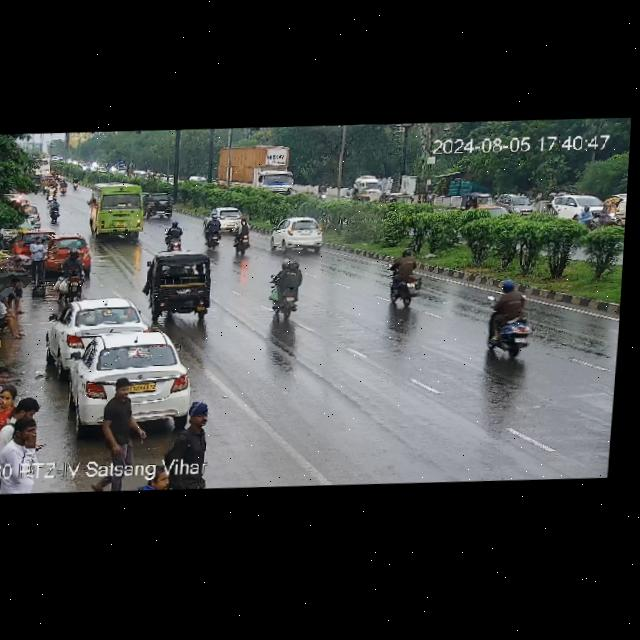bus: (87, 179, 154, 240)
car: (60, 331, 193, 422), (52, 294, 147, 358), (145, 250, 221, 328), (272, 216, 332, 254), (550, 187, 604, 222), (43, 233, 94, 269), (500, 192, 542, 218), (602, 190, 627, 231), (208, 204, 248, 225), (142, 191, 175, 215), (470, 203, 515, 220), (379, 189, 413, 210), (460, 189, 495, 209), (352, 186, 371, 202)
motorcycle: (480, 275, 547, 360), (260, 259, 307, 324), (382, 249, 428, 310), (52, 249, 87, 289), (228, 221, 259, 256), (201, 216, 224, 249), (164, 224, 186, 250), (47, 196, 62, 221), (314, 183, 329, 201)
person: (0, 366, 51, 464), (175, 399, 218, 490), (103, 377, 138, 462), (0, 259, 33, 338), (30, 236, 49, 282)
truck: (215, 143, 294, 195)
